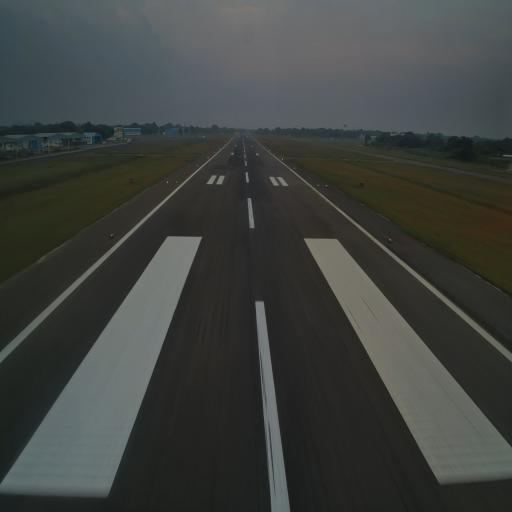on: (388, 237, 392, 244), (325, 183, 329, 189), (110, 232, 114, 238), (316, 182, 319, 188), (166, 180, 169, 184), (175, 180, 178, 184)
